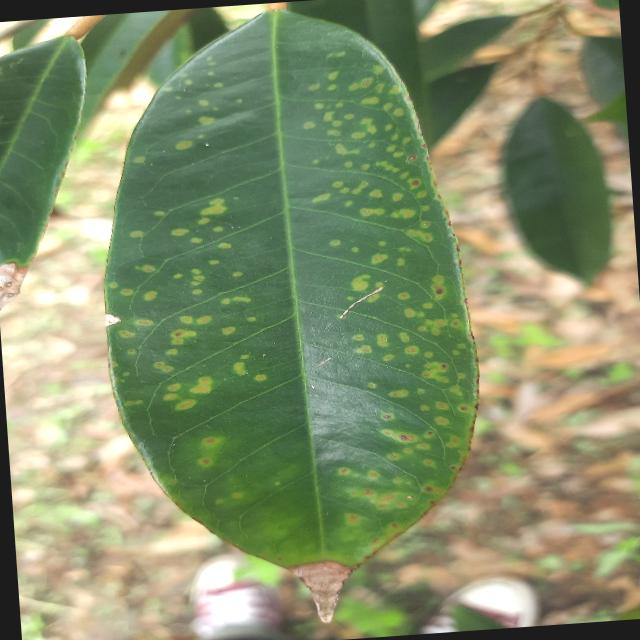Leaf Spot: (68, 0, 508, 635)
